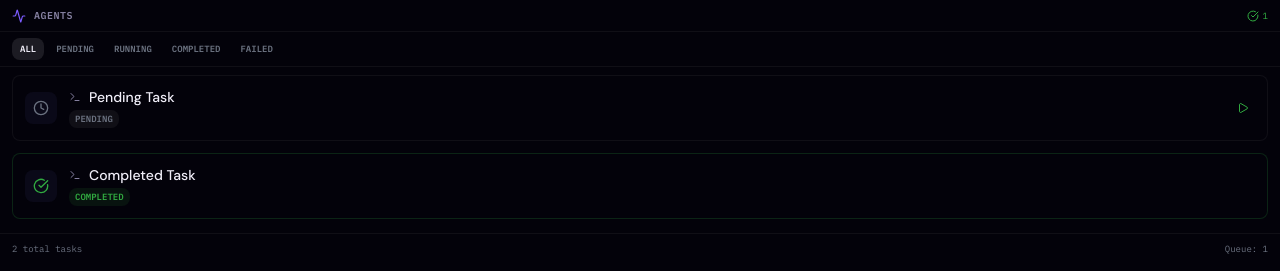
Scenario: AgentConsole › should filter tasks by status
Click the button "PENDING" at (75, 49), box [48,38,102,60]
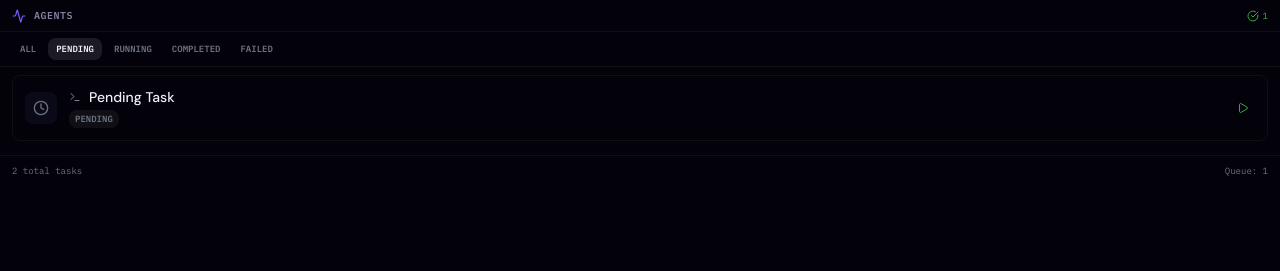
Expected: the text "Pending Task" is shown, [89,88,175,106]
Expected: the text "Completed Task" is gone
